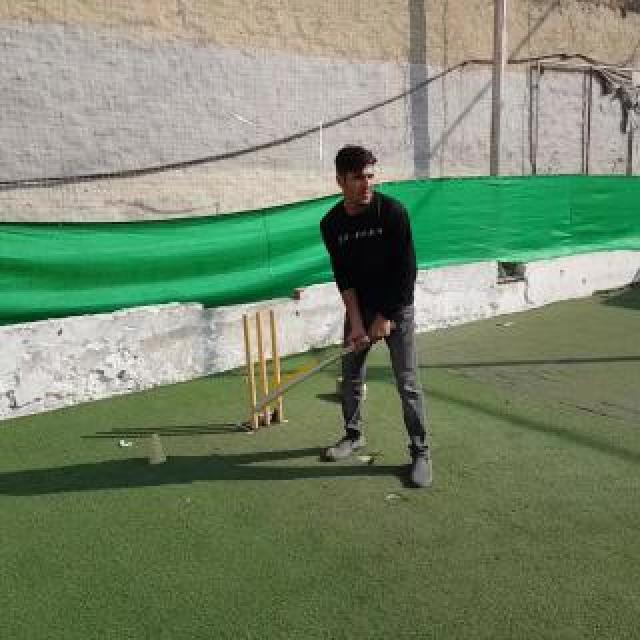bat: (250, 320, 398, 414)
